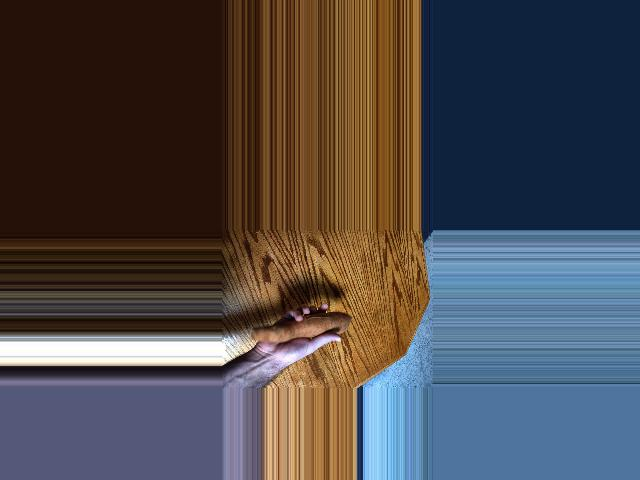sweet_potato: (241, 310, 353, 351)
